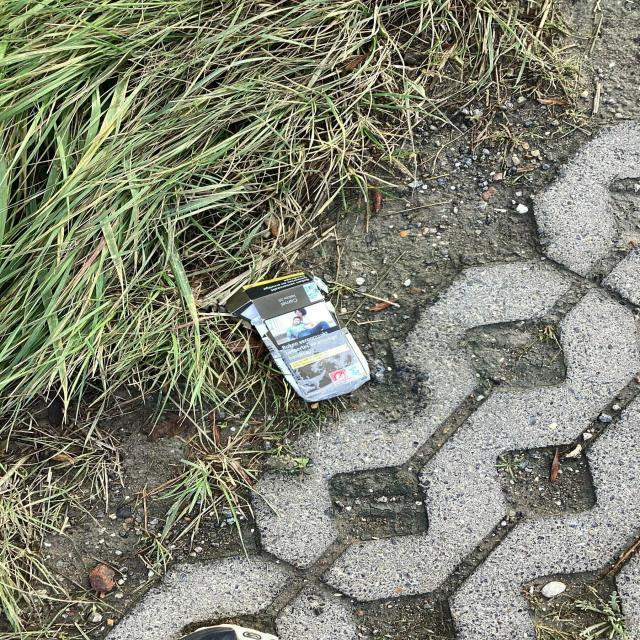Paper: (220, 268, 373, 404)
